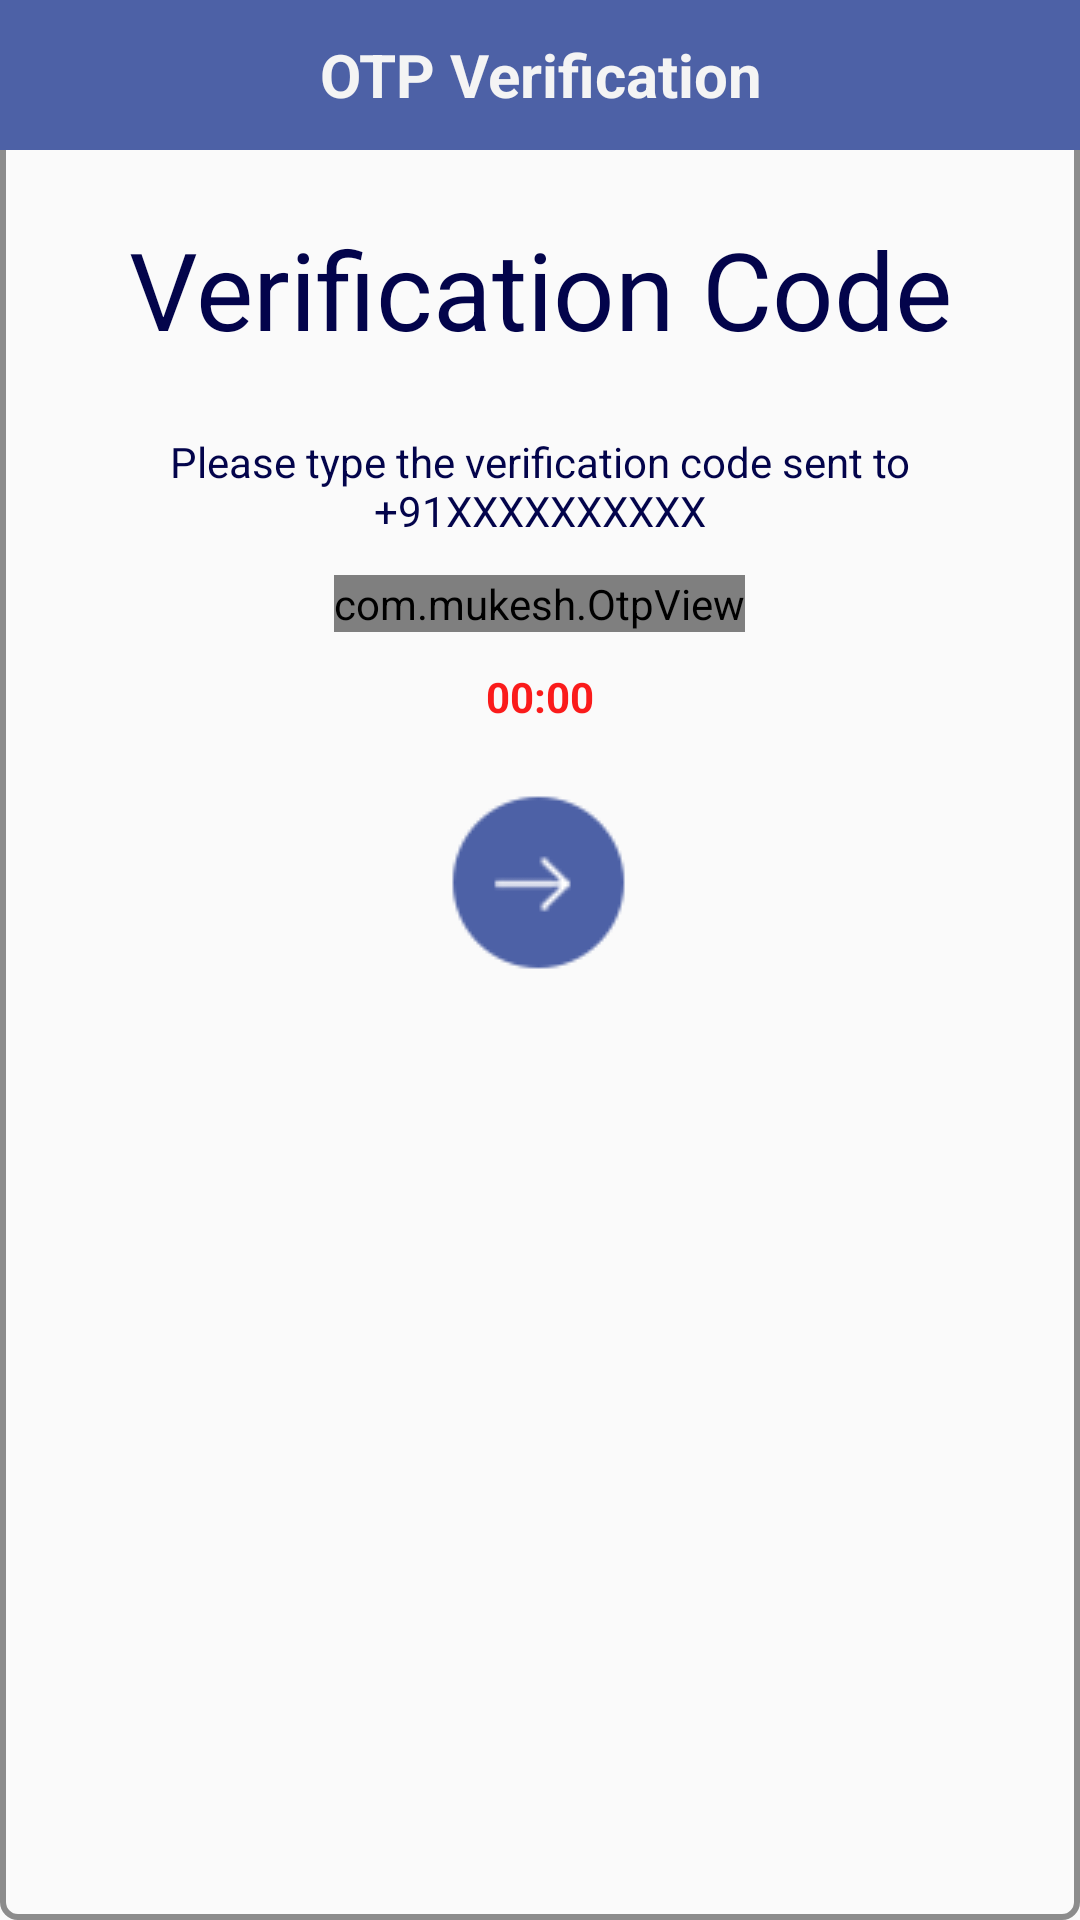

Icons on this 1080 × 1920 Android screen, each with the point to tap as point (x, y):
submit: point (538, 882)
